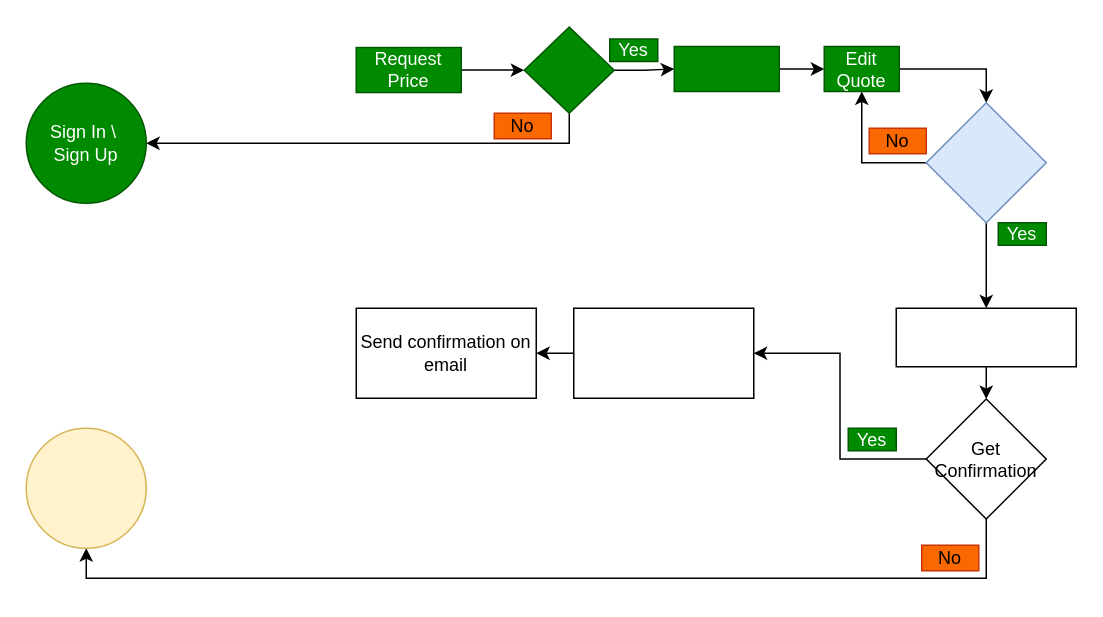
Some shapes in this 1103 by 617 pixel diagram are drawn without their labels. The centre of each missing label's shape, as x and y in pixels:
Buy Quote: the point at 726,68
Check Login: the point at 568,69
Check Transaction: the point at 85,487
Create Payment ID / Transaction ID: the point at 985,337
Get certificate ID and save in db: the point at 663,352
Validate: the point at 985,162
